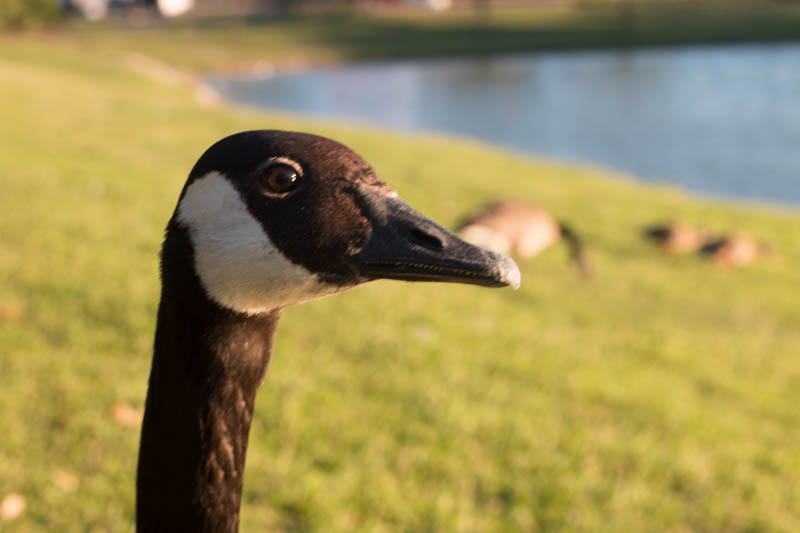goose-head: (158, 127, 522, 319)
